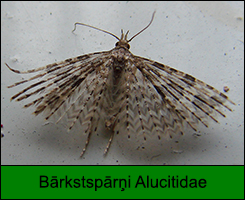Alucitidae: (2, 11, 230, 159)
moth: (1, 9, 228, 157)
